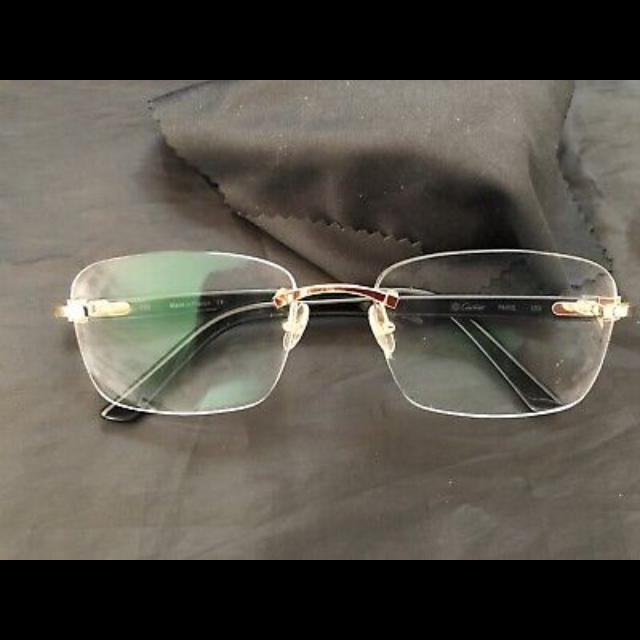mask: (57, 250, 618, 420)
